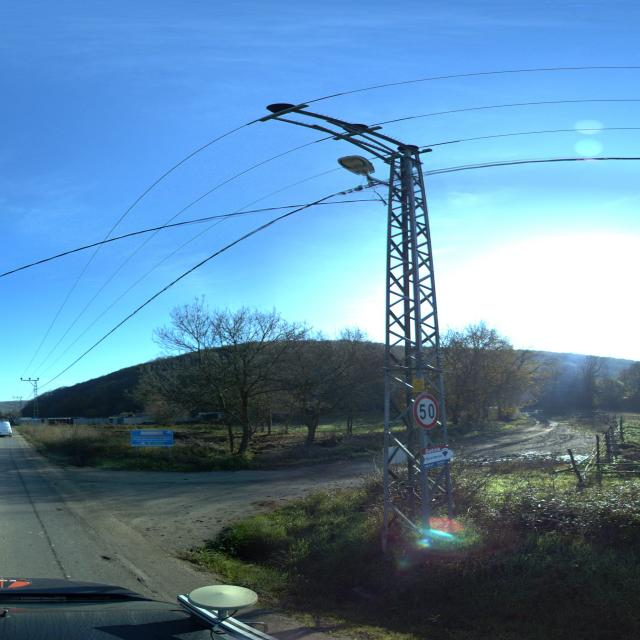Utility Pole Information Plate: (410, 378, 426, 393)
